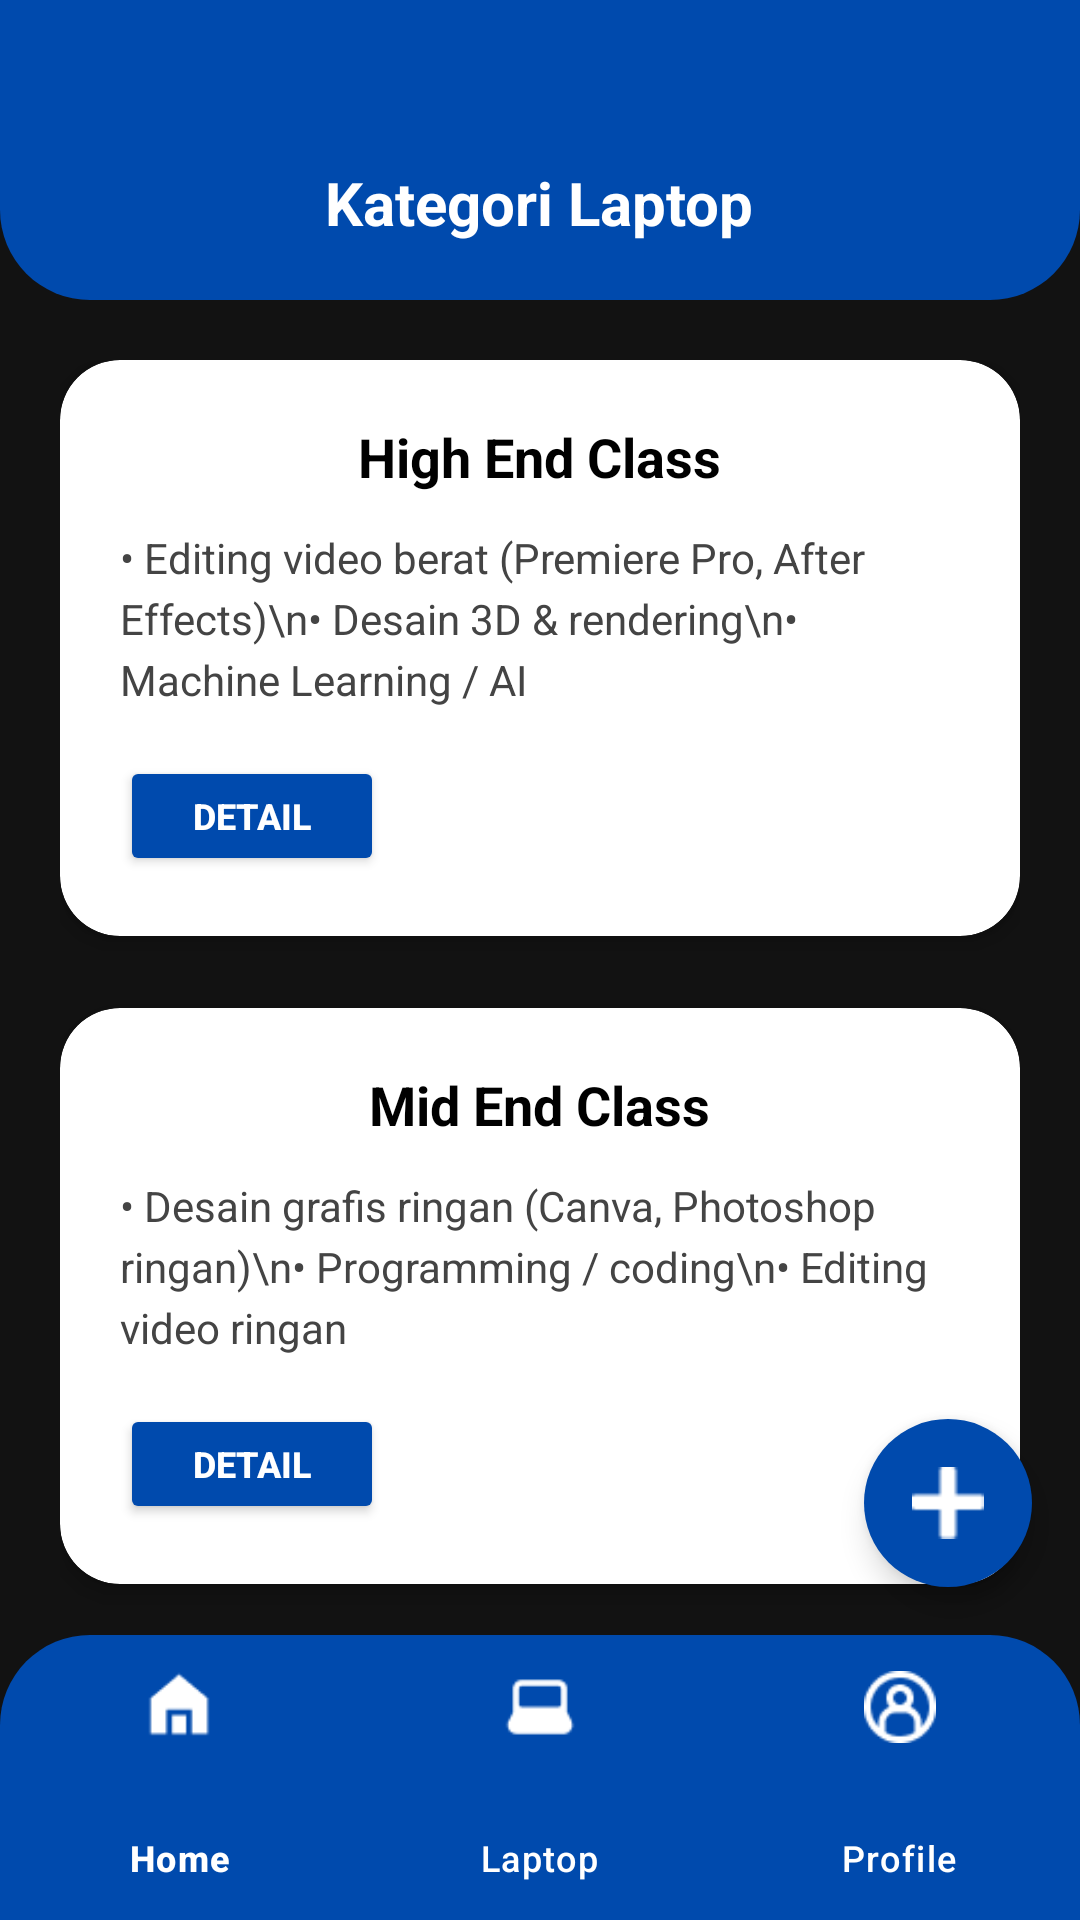

Point at icon controls on the screen. Image size 1080px x 1920px, points as (x=x, y=y).
plus: (x=948, y=1503)
